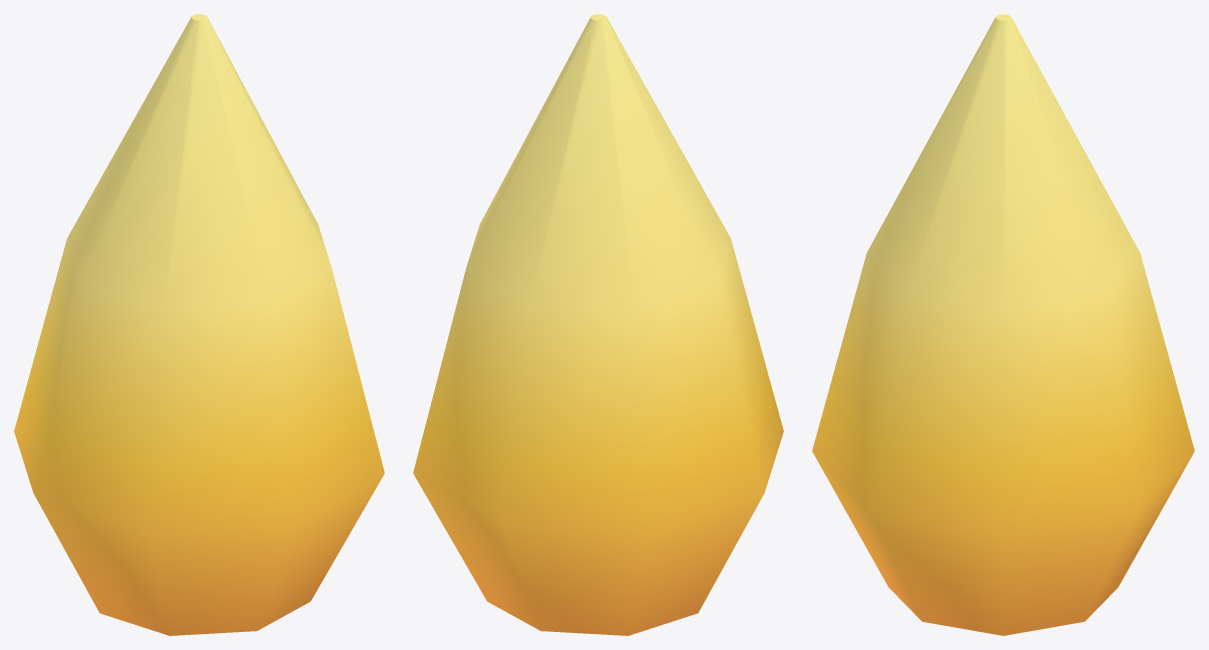
Rendered from sconce_flames.glb.
3 views of the same model, side by side, from view 1: azimuth 30°, elevation 25°; view 2: azimuth 150°, elevation 25°; view 3: azimuth 270°, elevation 25° (orthographic).
Parts seen in each view (by area): view 1: sconce_flames; view 2: sconce_flames; view 3: sconce_flames.
Part boxes in pixels (box(x1,y1,x2,y2)): sconce_flames: box(14, 14, 384, 635); sconce_flames: box(413, 14, 783, 635); sconce_flames: box(812, 14, 1194, 635).
Size of the model in its own units: 0.154 by 0.253 by 0.154.
Materials: 1 (1 with a texture image).
